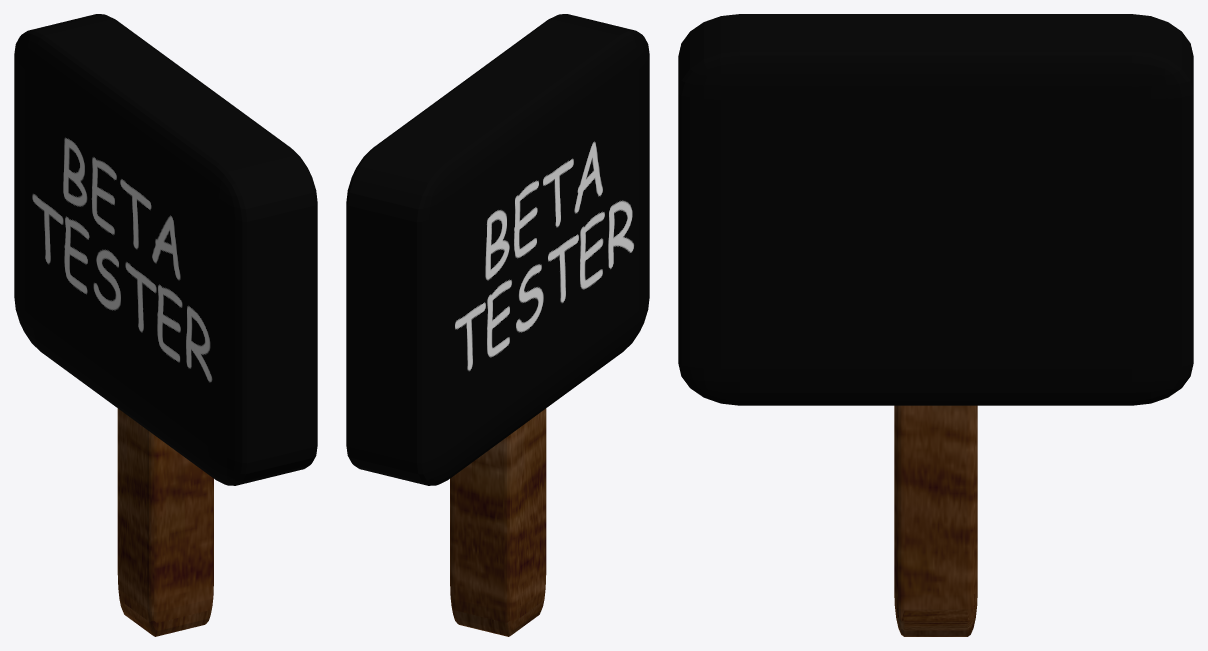
File: betasign.glb
The picture shows the model from 3 angles, left to right: view 1: azimuth 30°, elevation 25°; view 2: azimuth 150°, elevation 25°; view 3: azimuth 270°, elevation 25°; orthographic projection. The views are drawn at different scales.
Visible parts, largest first — view 1: Cube; view 2: Cube; view 3: Cube.
Boxes of the visible parts, x1,y1,x2,y2 form: Cube: (14, 14, 317, 636); Cube: (346, 14, 649, 636); Cube: (678, 14, 1193, 636).
Bounding box in the file's own units: 0.4782 × 2.68 × 2.12.
Materials: 1 (1 with a texture image).
